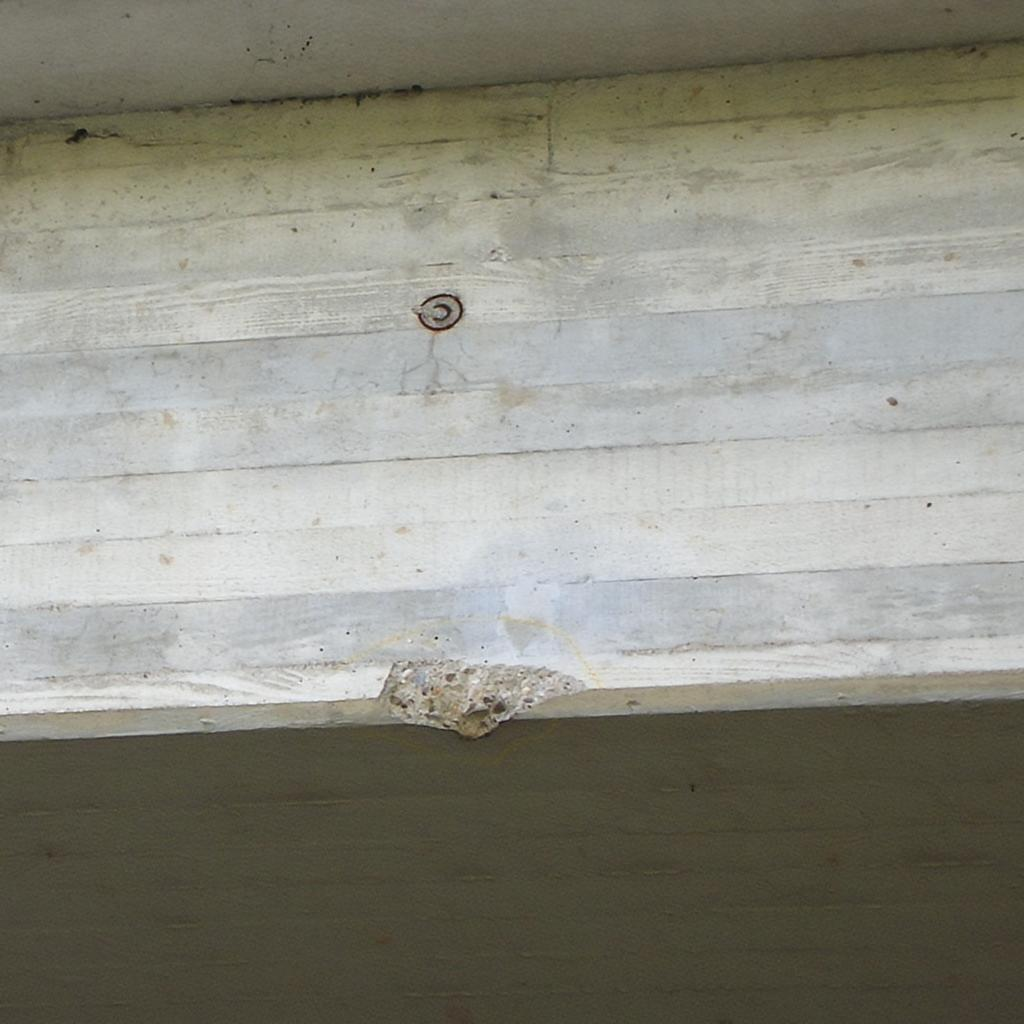spalling: (380, 660, 584, 738)
